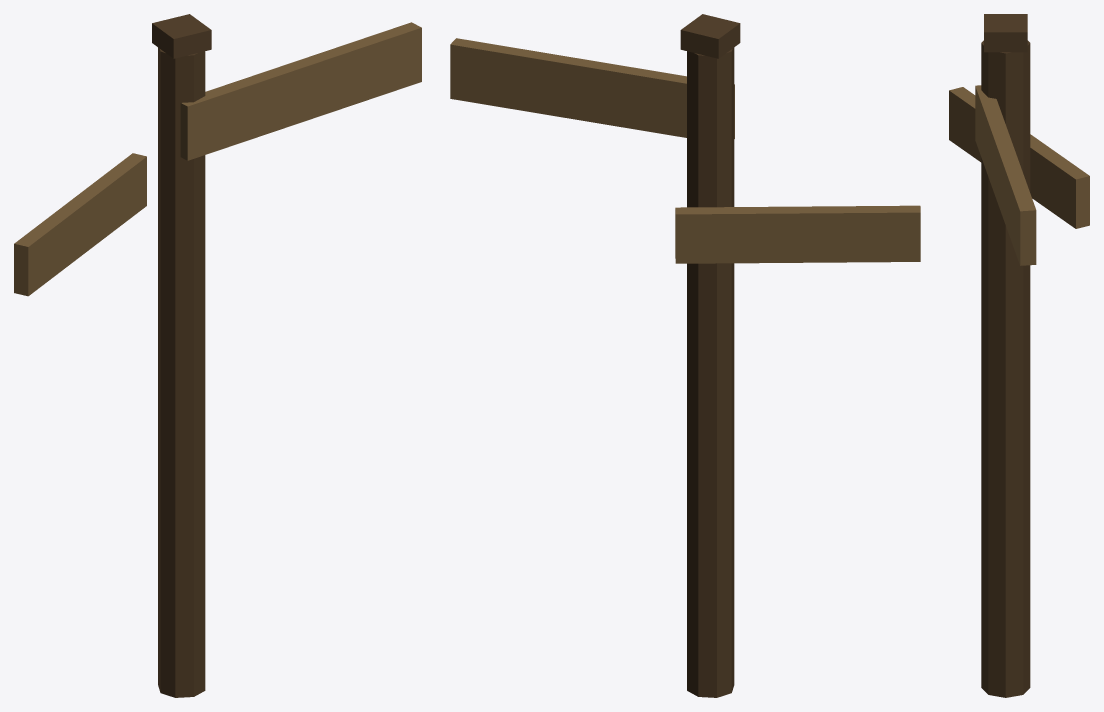
File: prop_signpost.glb
3 renders of one model, left to right at view 1: azimuth 30°, elevation 25°; view 2: azimuth 150°, elevation 25°; view 3: azimuth 270°, elevation 25°, orthographic.
Parts seen in each view (by area): view 1: post, finger_a, finger_b, cap; view 2: post, finger_a, finger_b, cap; view 3: post, finger_a, finger_b, cap.
Part boxes in pixels (x1=…): post: x1=158, y1=47, x2=205, y2=697; finger_a: x1=180, y1=22, x2=421, y2=160; finger_b: x1=14, y1=153, x2=146, y2=296; cap: x1=152, y1=14, x2=211, y2=58; post: x1=687, y1=47, x2=734, y2=697; finger_a: x1=450, y1=38, x2=734, y2=138; finger_b: x1=675, y1=205, x2=920, y2=263; cap: x1=680, y1=14, x2=740, y2=58; post: x1=981, y1=40, x2=1030, y2=697; finger_a: x1=975, y1=85, x2=1036, y2=265; finger_b: x1=949, y1=87, x2=1089, y2=228; cap: x1=984, y1=14, x2=1027, y2=52.
Bounding box in the file's own units: 1.85 × 2.68 × 0.5154.
